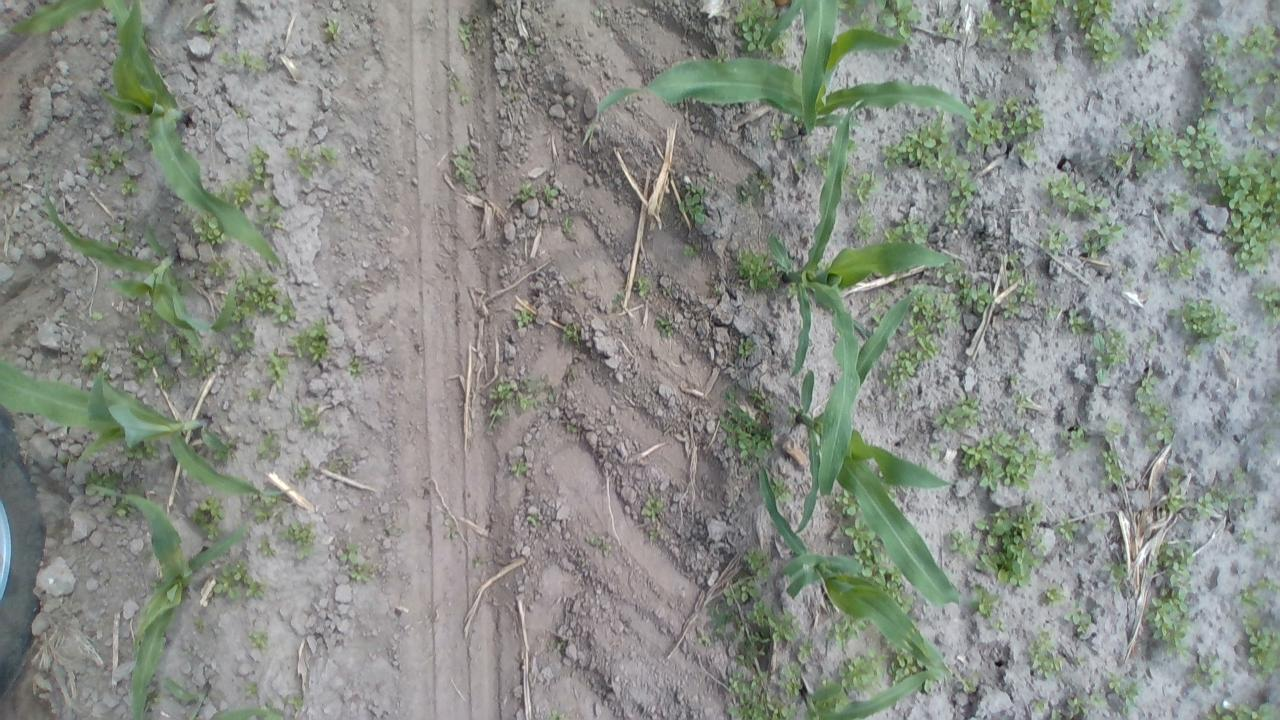Maize: (774, 105, 975, 494), (0, 0, 281, 270), (792, 282, 1002, 630), (582, 9, 976, 172), (750, 461, 946, 671), (2, 352, 286, 496), (106, 492, 250, 720), (38, 185, 235, 344), (800, 660, 945, 720), (160, 674, 290, 720), (758, 0, 807, 53)
Weeds: (1220, 148, 1280, 274), (1142, 535, 1197, 660), (971, 500, 1044, 588), (962, 430, 1054, 491), (690, 599, 805, 647), (484, 368, 554, 435), (1110, 114, 1178, 182), (718, 388, 775, 463), (908, 288, 956, 362), (727, 674, 804, 720), (1074, 1, 1124, 66), (1135, 368, 1172, 454), (882, 121, 946, 170), (1170, 299, 1238, 341), (1179, 119, 1224, 182), (1006, 3, 1060, 54), (1132, 4, 1184, 55), (1046, 174, 1108, 214), (236, 270, 289, 316), (1241, 613, 1277, 679), (1028, 692, 1106, 720), (944, 158, 978, 222), (886, 349, 921, 410), (844, 508, 880, 567), (714, 572, 766, 611), (1001, 247, 1038, 301), (730, 166, 777, 207), (964, 98, 1001, 150), (736, 250, 781, 292), (1002, 97, 1042, 143), (1204, 696, 1280, 720), (840, 652, 886, 691), (292, 319, 332, 363), (736, 1, 770, 51), (1030, 626, 1064, 676), (1096, 328, 1130, 378), (188, 494, 228, 536), (933, 397, 980, 430), (340, 536, 372, 584), (883, 1, 922, 40), (80, 143, 126, 176), (1108, 672, 1142, 716), (1084, 220, 1124, 256), (262, 342, 292, 390), (837, 0, 883, 31), (214, 562, 253, 598), (1230, 78, 1270, 112), (1238, 23, 1276, 58), (954, 650, 982, 696), (1236, 581, 1280, 610), (282, 522, 316, 558), (1201, 62, 1237, 96), (946, 527, 979, 563), (827, 616, 863, 648), (252, 193, 284, 229), (378, 512, 416, 542), (1057, 423, 1091, 456), (1164, 469, 1188, 515), (444, 70, 472, 109), (1064, 598, 1092, 636), (220, 49, 268, 71), (732, 635, 766, 666), (452, 146, 477, 188), (1194, 486, 1230, 515), (886, 218, 929, 242), (959, 280, 992, 311), (216, 177, 250, 207), (1010, 387, 1046, 415), (1171, 246, 1202, 278), (1190, 655, 1222, 686), (1254, 283, 1277, 326), (1102, 444, 1124, 488), (1040, 222, 1068, 256), (78, 344, 105, 379), (287, 147, 318, 177), (890, 648, 915, 685), (247, 148, 274, 182), (682, 186, 708, 221), (86, 470, 118, 498), (1249, 104, 1277, 136), (850, 172, 877, 204), (136, 348, 164, 378), (1204, 30, 1232, 60), (188, 346, 218, 374), (972, 585, 998, 617), (1106, 562, 1128, 598), (853, 212, 880, 241), (193, 11, 220, 40), (680, 239, 711, 264), (1115, 263, 1142, 291), (108, 112, 137, 138), (126, 440, 160, 462), (934, 261, 966, 284), (196, 217, 222, 245), (508, 178, 534, 206), (296, 401, 322, 428), (328, 452, 355, 478), (272, 297, 296, 326), (866, 293, 888, 324), (1038, 298, 1063, 325), (978, 13, 1002, 41), (770, 472, 791, 504), (781, 662, 802, 694), (768, 116, 793, 142), (289, 458, 314, 483), (746, 548, 770, 574), (1168, 190, 1193, 214), (1252, 436, 1277, 460), (501, 76, 523, 103), (318, 142, 342, 166), (1015, 138, 1040, 161), (1183, 342, 1209, 364), (442, 514, 461, 544), (460, 20, 480, 48), (1090, 514, 1114, 537), (540, 184, 562, 209), (508, 457, 530, 482), (258, 434, 279, 460), (1066, 310, 1087, 336), (1056, 516, 1077, 542), (774, 31, 794, 58), (110, 210, 134, 232), (1198, 95, 1222, 117), (138, 310, 160, 334), (514, 306, 536, 330), (1139, 331, 1160, 356), (252, 499, 277, 520), (154, 371, 180, 391), (1256, 540, 1276, 566), (544, 636, 570, 656), (210, 255, 232, 278), (167, 334, 190, 356), (112, 236, 140, 254), (588, 535, 612, 556), (1151, 251, 1171, 276), (124, 332, 146, 354), (245, 578, 266, 601), (111, 501, 136, 520), (227, 102, 253, 120), (233, 328, 254, 350), (937, 18, 957, 41), (642, 496, 664, 516), (345, 354, 365, 376), (521, 35, 540, 58), (1252, 67, 1276, 85), (562, 420, 586, 438), (558, 213, 576, 237), (813, 148, 828, 176), (119, 176, 139, 197), (248, 630, 270, 649), (610, 292, 629, 314), (471, 553, 492, 572), (1234, 525, 1254, 544), (988, 616, 1008, 635), (1005, 366, 1022, 388), (1230, 464, 1246, 487), (1266, 382, 1280, 408), (561, 324, 580, 343), (1004, 297, 1022, 317), (796, 640, 814, 660), (193, 613, 210, 634), (792, 157, 808, 179), (737, 337, 755, 356), (1044, 588, 1062, 606), (242, 680, 262, 696), (284, 693, 304, 709), (635, 276, 651, 296), (258, 536, 274, 556), (658, 314, 674, 334), (646, 524, 661, 545), (1073, 650, 1090, 668), (248, 385, 264, 404), (324, 20, 340, 38), (714, 47, 730, 65), (1105, 419, 1123, 435), (181, 643, 196, 660), (590, 8, 608, 21), (92, 306, 105, 324), (526, 512, 540, 528), (546, 707, 562, 720), (1054, 63, 1069, 76), (848, 139, 856, 157)
